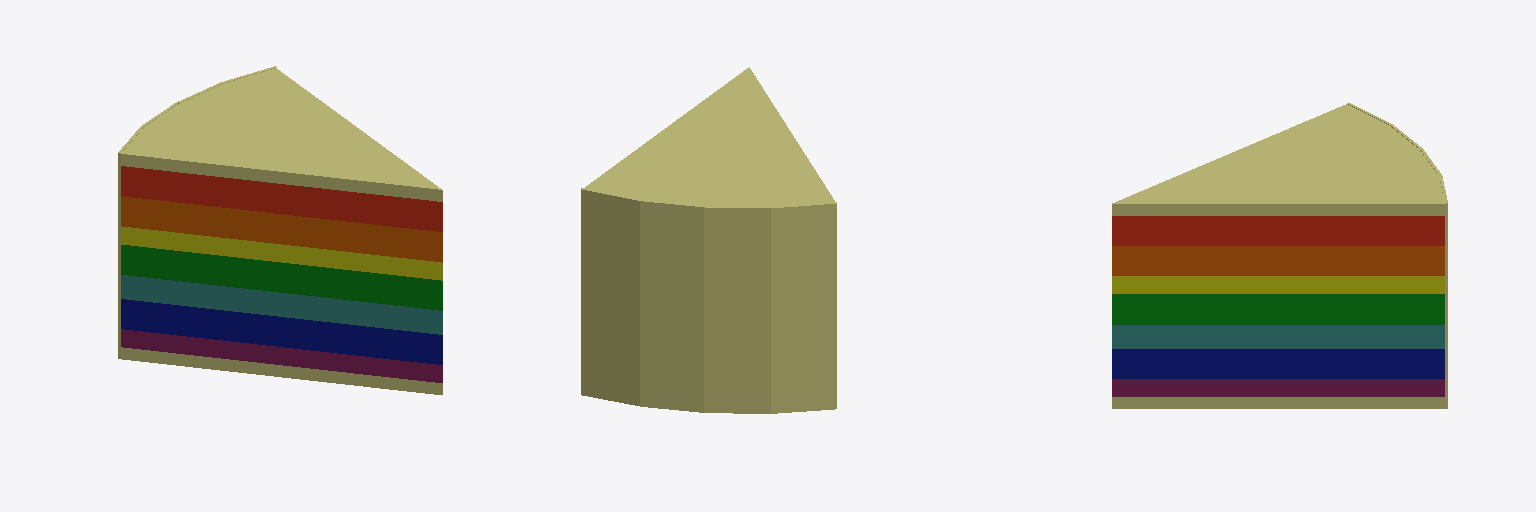
File: cake.obj
The picture shows the model from 3 angles: view 1: azimuth 30°, elevation 25°; view 2: azimuth 150°, elevation 25°; view 3: azimuth 270°, elevation 25°; orthographic projection.
Visible parts, largest first — view 1: Cylinder.008_Cylinder.010, Cylinder.006_Cylinder.008, Cylinder.004_Cylinder.006, Cylinder.002_Cylinder.004, Cylinder.007_Cylinder.009, Cylinder.003_Cylinder.005, Cylinder.005_Cylinder.007, Cylinder.001_Cylinder.003, Cylinder_Cylinder.002, Cube.003_Cube.010; view 2: Cylinder.008_Cylinder.010, Cube.003_Cube.010, Cube.002_Cube.009, Cube.001_Cube.008, Cube_Cube.007; view 3: Cylinder.008_Cylinder.010, Cylinder.004_Cylinder.006, Cylinder.007_Cylinder.009, Cylinder.006_Cylinder.008, Cylinder.002_Cylinder.004, Cylinder.003_Cylinder.005, Cylinder.005_Cylinder.007, Cylinder.001_Cylinder.003, Cylinder_Cylinder.002, Cube_Cube.007.
Part boxes in pixels (x1,y1,x2,y2): Cylinder.008_Cylinder.010: (121,68,442,201); Cylinder.006_Cylinder.008: (121,196,442,262); Cylinder.004_Cylinder.006: (121,245,442,310); Cylinder.002_Cylinder.004: (121,299,442,364); Cylinder.007_Cylinder.009: (121,166,442,231); Cylinder.003_Cylinder.005: (121,275,442,334); Cylinder.005_Cylinder.007: (121,226,442,280); Cylinder.001_Cylinder.003: (121,329,442,382); Cylinder_Cylinder.002: (121,347,442,394); Cube.003_Cube.010: (118,127,143,358); Cylinder.008_Cylinder.010: (584,67,834,206); Cube.003_Cube.010: (771,202,836,413); Cube.002_Cube.009: (705,206,770,413); Cube.001_Cube.008: (640,200,704,412); Cube_Cube.007: (581,188,641,405); Cylinder.008_Cylinder.010: (1112,104,1444,215); Cylinder.004_Cylinder.006: (1112,294,1444,324); Cylinder.007_Cylinder.009: (1112,216,1444,245); Cylinder.006_Cylinder.008: (1112,246,1444,275); Cylinder.002_Cylinder.004: (1112,349,1444,378); Cylinder.003_Cylinder.005: (1112,325,1444,348); Cylinder.005_Cylinder.007: (1112,276,1444,293); Cylinder.001_Cylinder.003: (1112,379,1444,396); Cylinder_Cylinder.002: (1112,397,1444,408); Cube_Cube.007: (1439,175,1447,408).
Size of the model in its own units: 0.7178 by 0.6818 by 1.01.